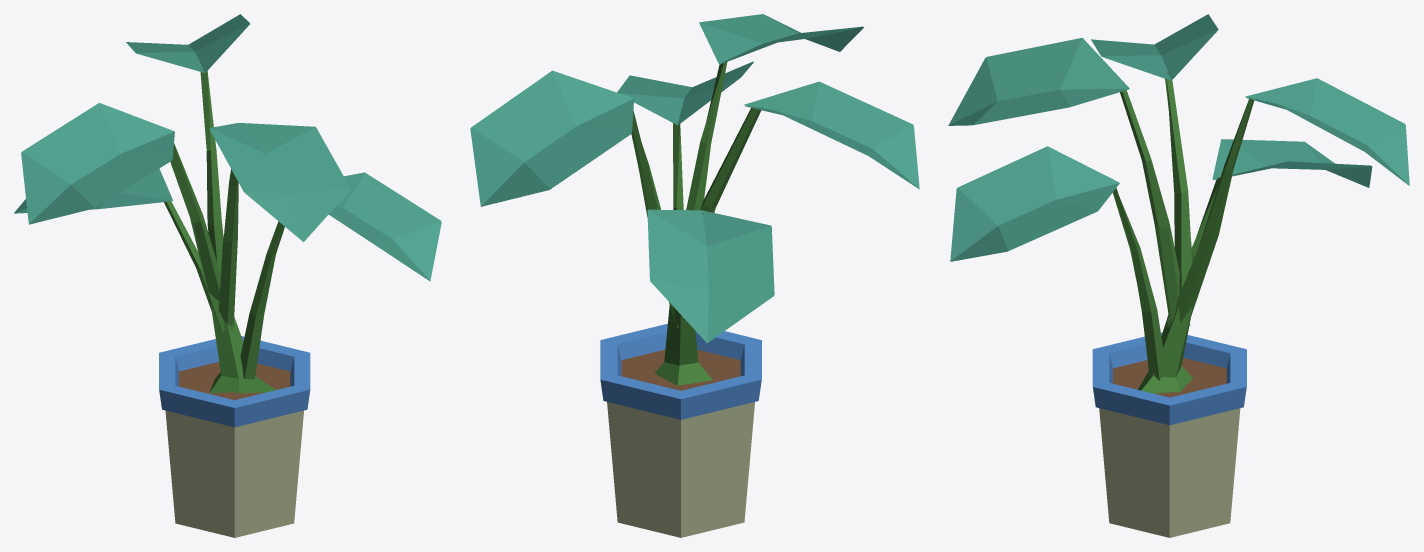
Rendered from Flower_46.fbx.
3 renders of one model, left to right at view 1: azimuth 30°, elevation 25°; view 2: azimuth 150°, elevation 25°; view 3: azimuth 270°, elevation 25°, orthographic. The views are drawn at different scales.
Parts seen in each view (by area): view 1: Flower_46; view 2: Flower_46; view 3: Flower_46.
Part boxes in pixels (box(x1,y1,x2,y2)): Flower_46: box(14, 14, 441, 537); Flower_46: box(470, 14, 919, 537); Flower_46: box(948, 14, 1409, 537).
Bounding box in the file's own units: 108 × 124 × 130.
